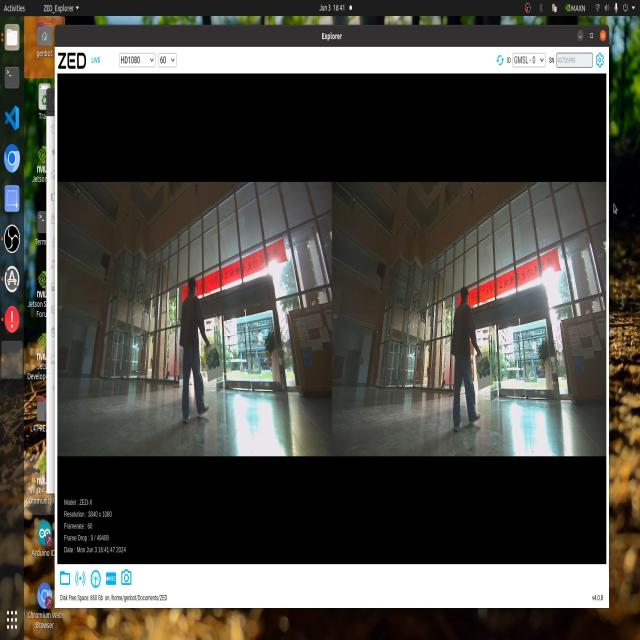green: (192, 327, 227, 376), (468, 353, 501, 397)
